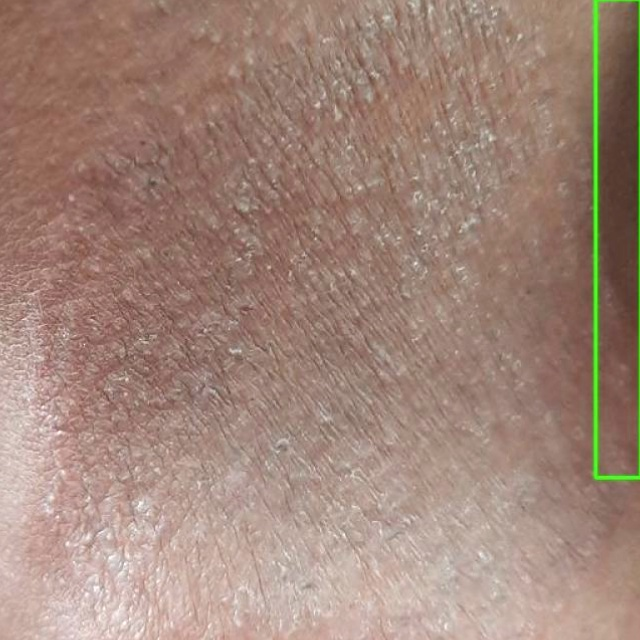Tinea Corporis: (595, 0, 639, 477)
